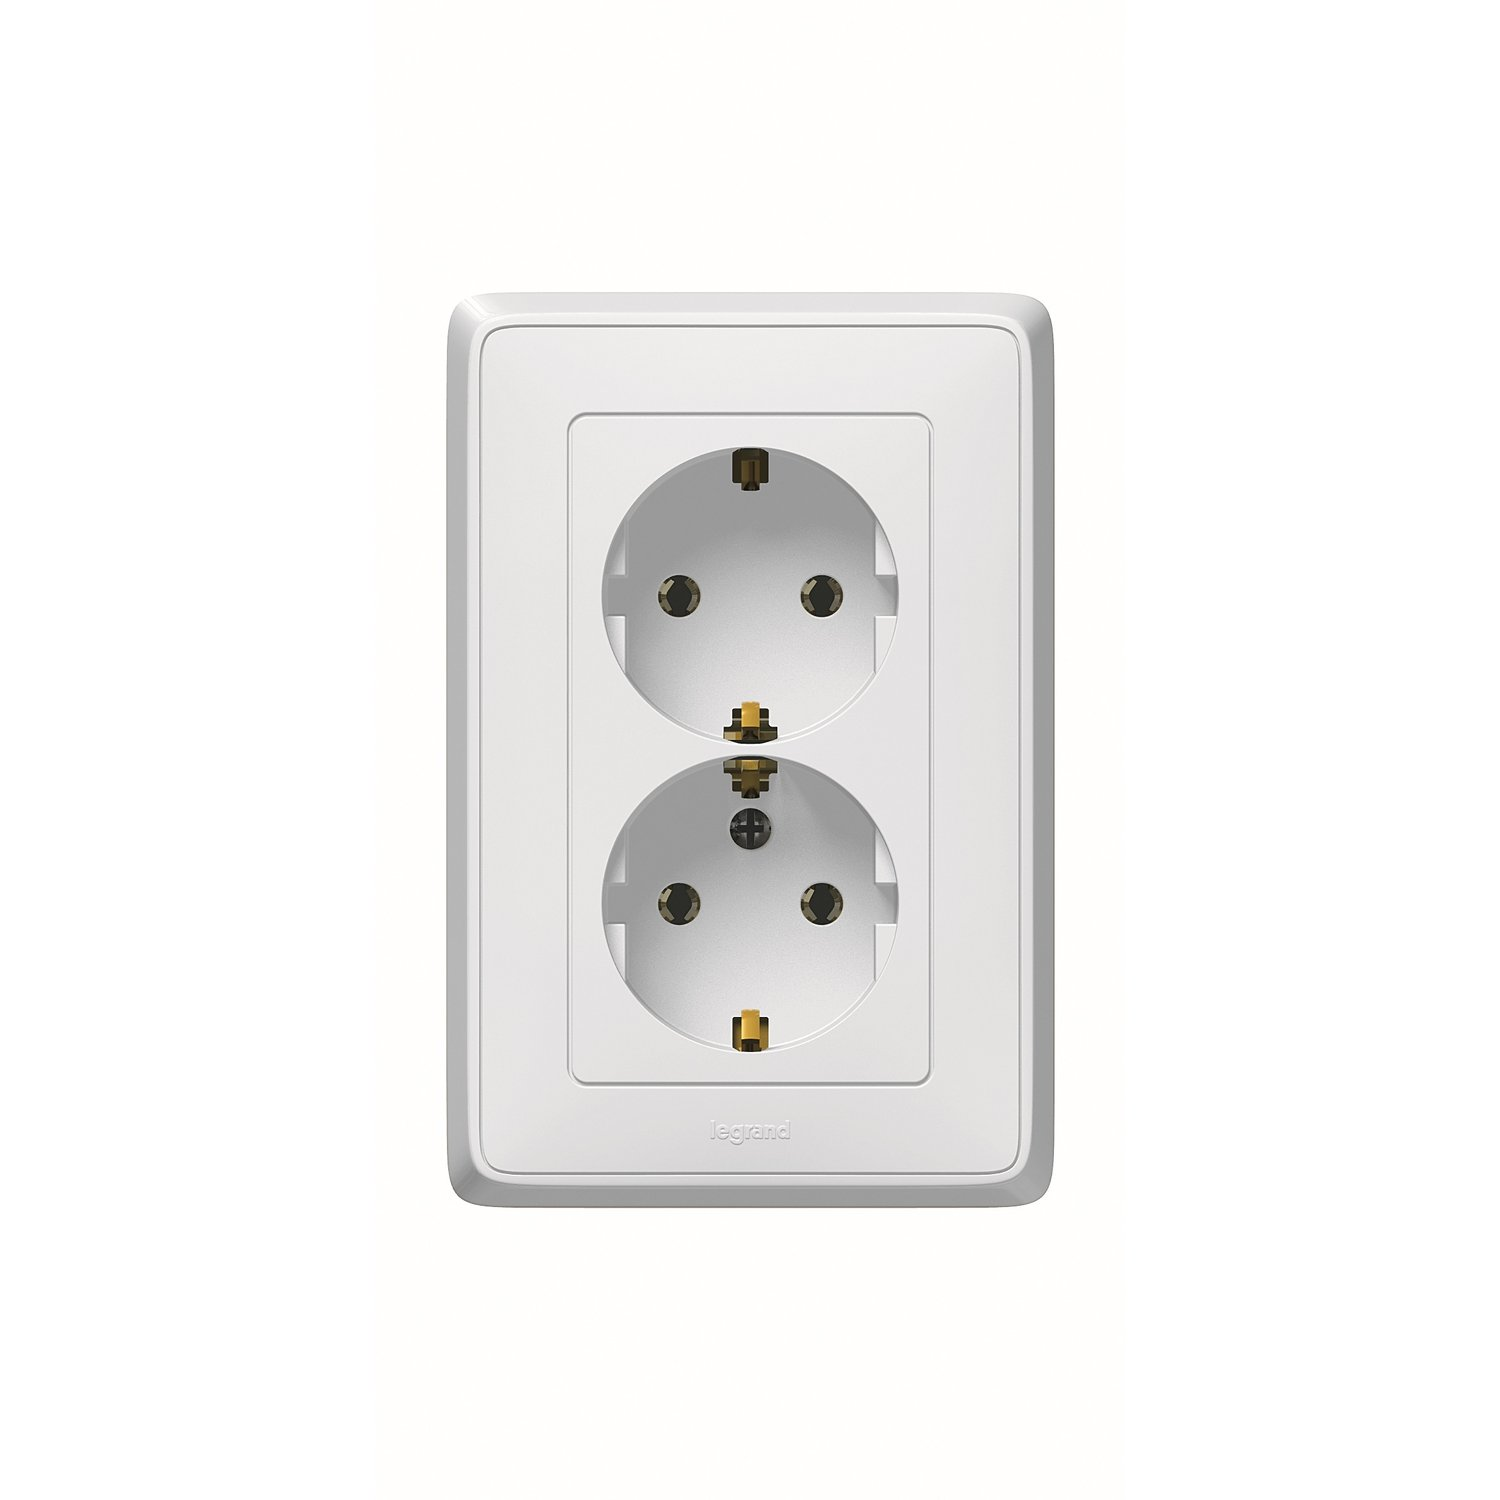raccoon: (598, 437, 902, 751), (598, 762, 904, 1062)
